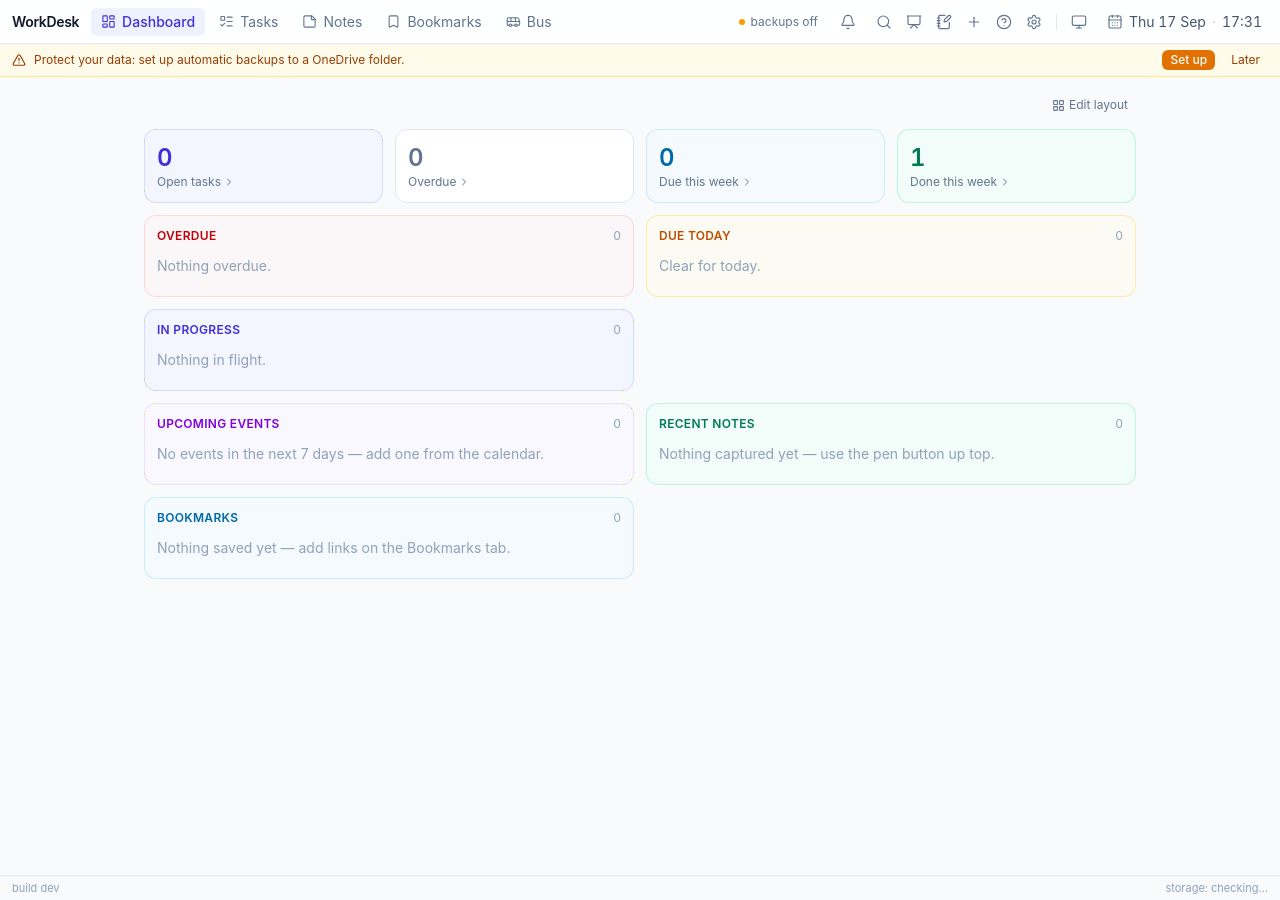
ReviewDrawer › opens from the Done this week tile and lists the completion under today
Click the button "1 Done this week". click: (1016, 166)
box: [897,129,1136,203]
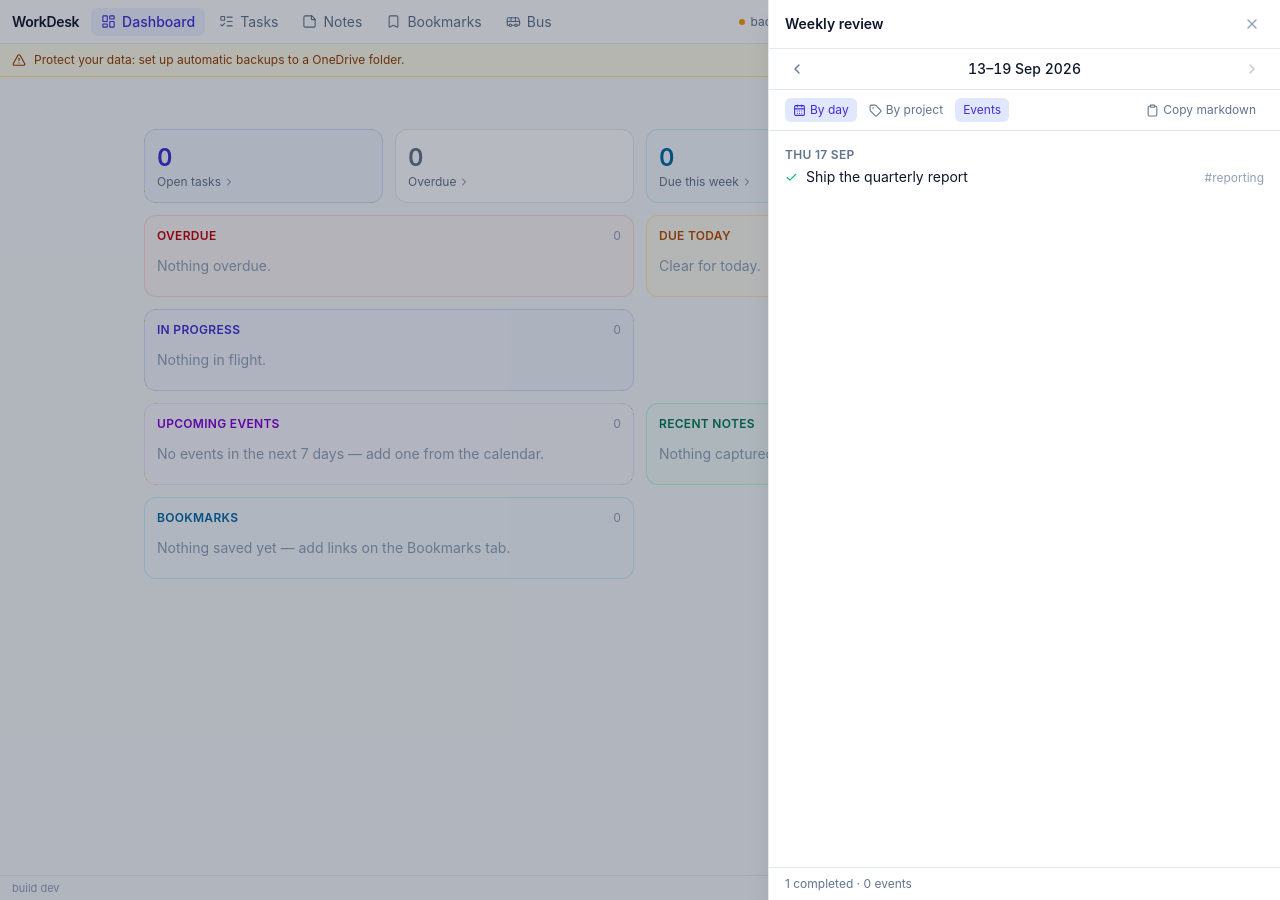
Now the text "Ship the quarterly report" is shown, box [806,168,968,185]
Now the text "#reporting" is shown, box [1204,170,1264,186]
